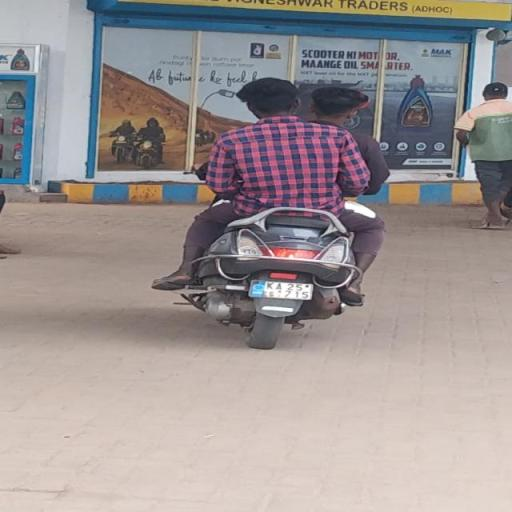bike: (146, 72, 405, 352)
numberplate: (250, 280, 315, 300)
withouthelmet: (243, 79, 296, 117), (311, 86, 365, 122)
